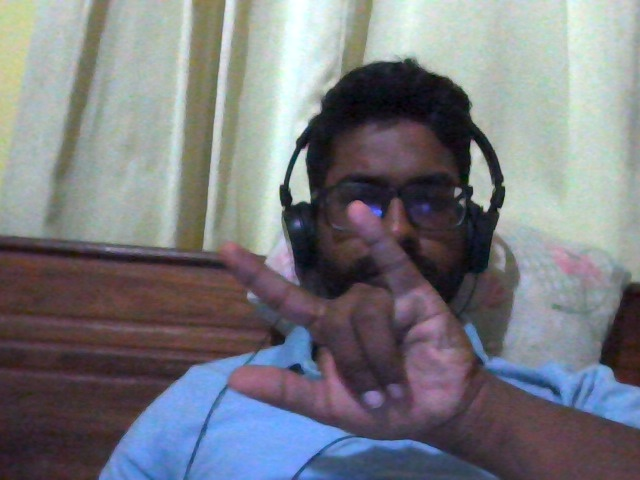I Love You: (169, 188, 546, 461)
